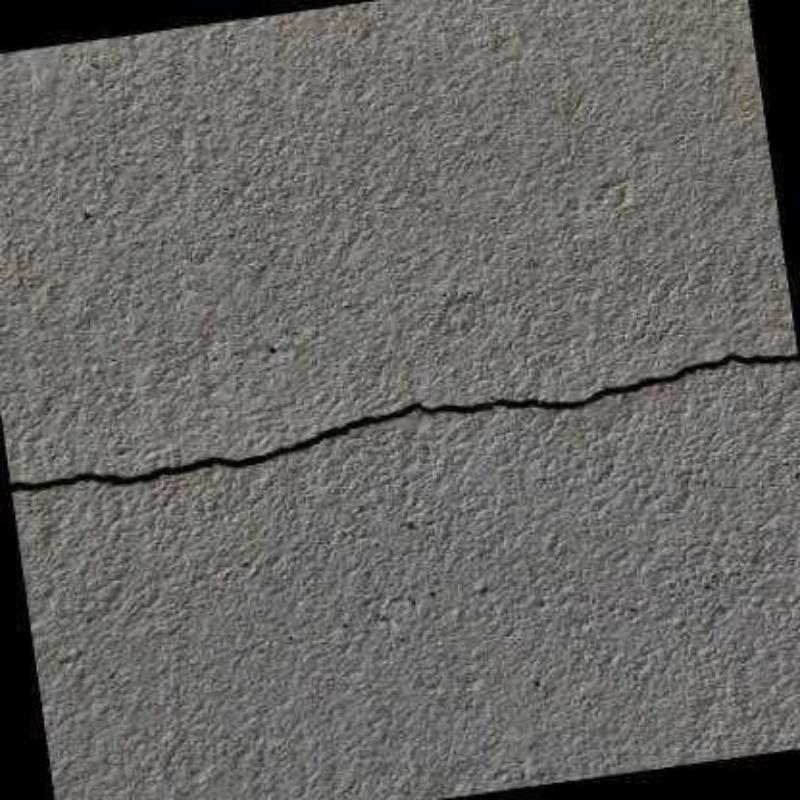pothole: (8, 351, 799, 497)
